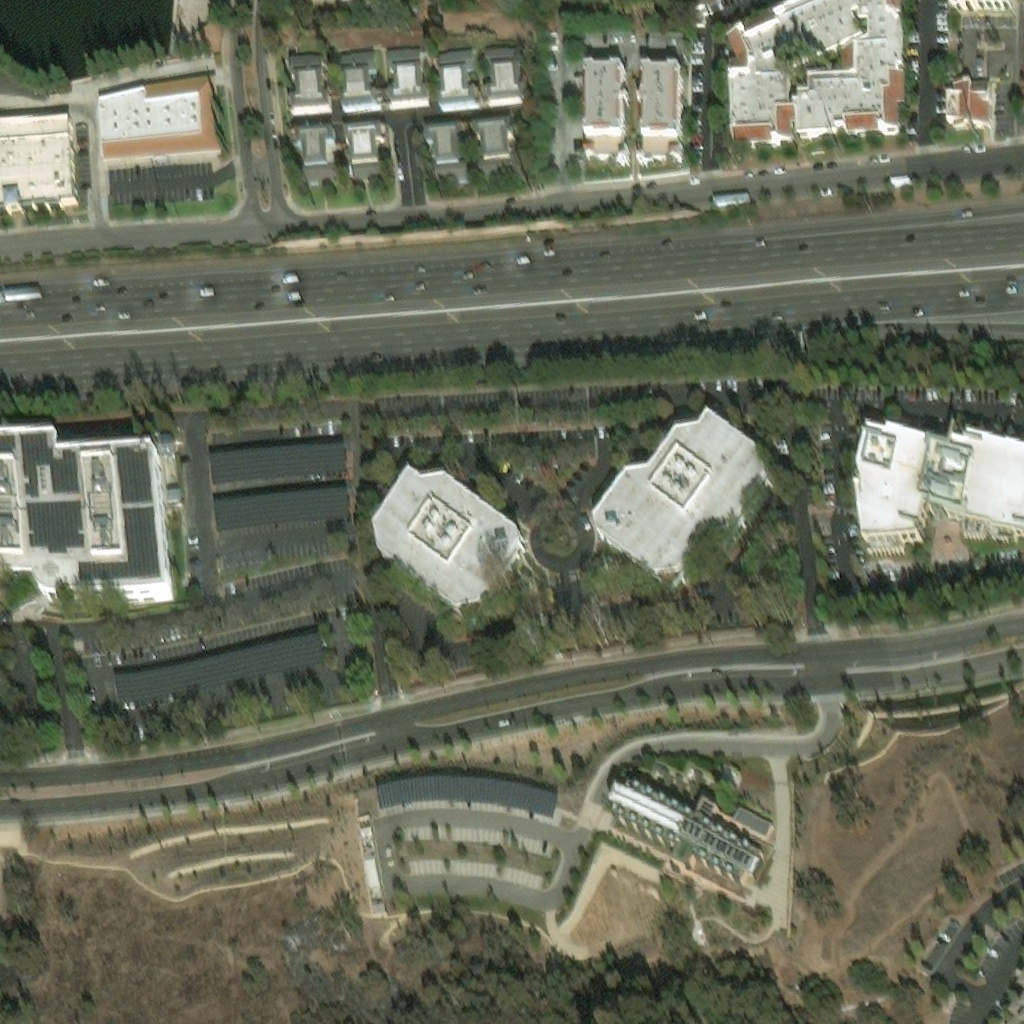0 no-damage: (593, 411, 767, 575), (0, 434, 170, 589), (374, 471, 523, 610), (725, 0, 864, 147), (853, 426, 1023, 546), (794, 0, 908, 135), (110, 627, 323, 693), (611, 787, 764, 874), (97, 77, 226, 166), (374, 776, 560, 820), (0, 116, 79, 217), (209, 441, 348, 489), (212, 489, 351, 530), (640, 65, 684, 161), (584, 64, 625, 160), (935, 78, 995, 128), (289, 70, 332, 120), (344, 122, 386, 167), (426, 124, 465, 170), (472, 120, 514, 161), (341, 66, 380, 110), (296, 126, 335, 170), (486, 61, 527, 102), (437, 65, 477, 107), (389, 62, 428, 103), (994, 969, 1023, 1023), (732, 802, 768, 829), (433, 161, 468, 185), (948, 0, 1011, 13), (439, 51, 475, 72), (477, 157, 518, 175), (300, 164, 338, 183), (290, 56, 324, 76), (351, 162, 386, 180), (388, 49, 421, 68), (486, 47, 521, 64), (341, 50, 374, 68), (360, 853, 379, 882)
